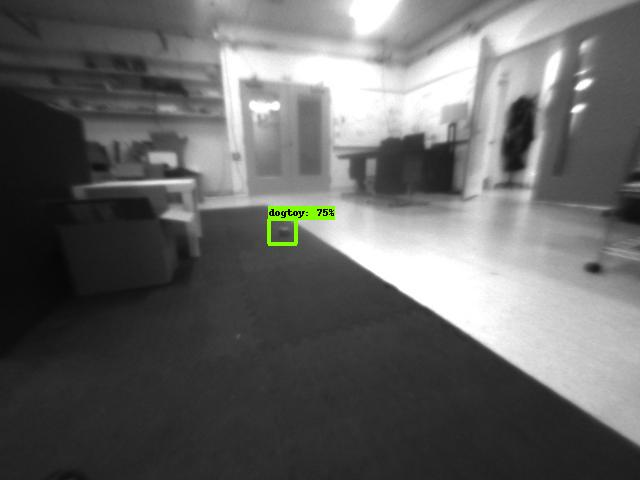dogtoy: (268, 221, 298, 241)
